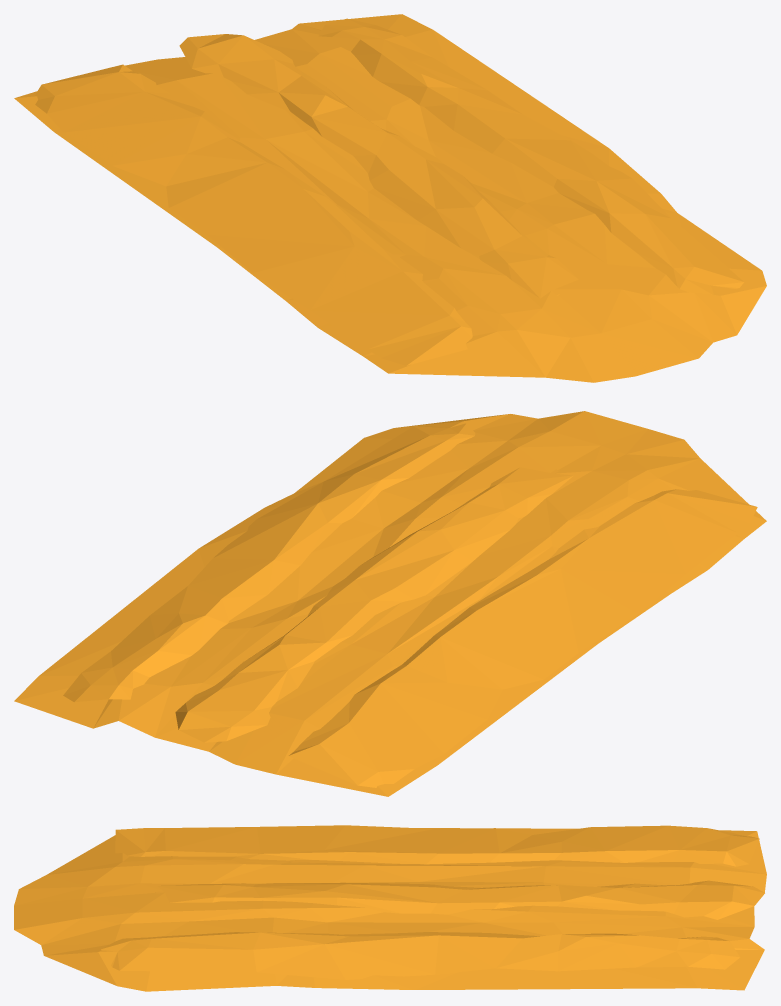
File: SM_Road_Dirt_B_Straight_10x10m.fbx
3 views of the same model, one above another, from view 1: azimuth 30°, elevation 25°; view 2: azimuth 150°, elevation 25°; view 3: azimuth 270°, elevation 25° (orthographic). The views are drawn at different scales.
Parts seen in each view (by area): view 1: road-dirt-b-straight-10x10m; view 2: road-dirt-b-straight-10x10m; view 3: road-dirt-b-straight-10x10m.
Part boxes in pixels (x1,y1,x2,y2): road-dirt-b-straight-10x10m: [14, 14, 766, 382]; road-dirt-b-straight-10x10m: [14, 411, 766, 796]; road-dirt-b-straight-10x10m: [14, 825, 766, 991].
Size of the model in its own units: 7.07 by 0.538 by 13.67.
